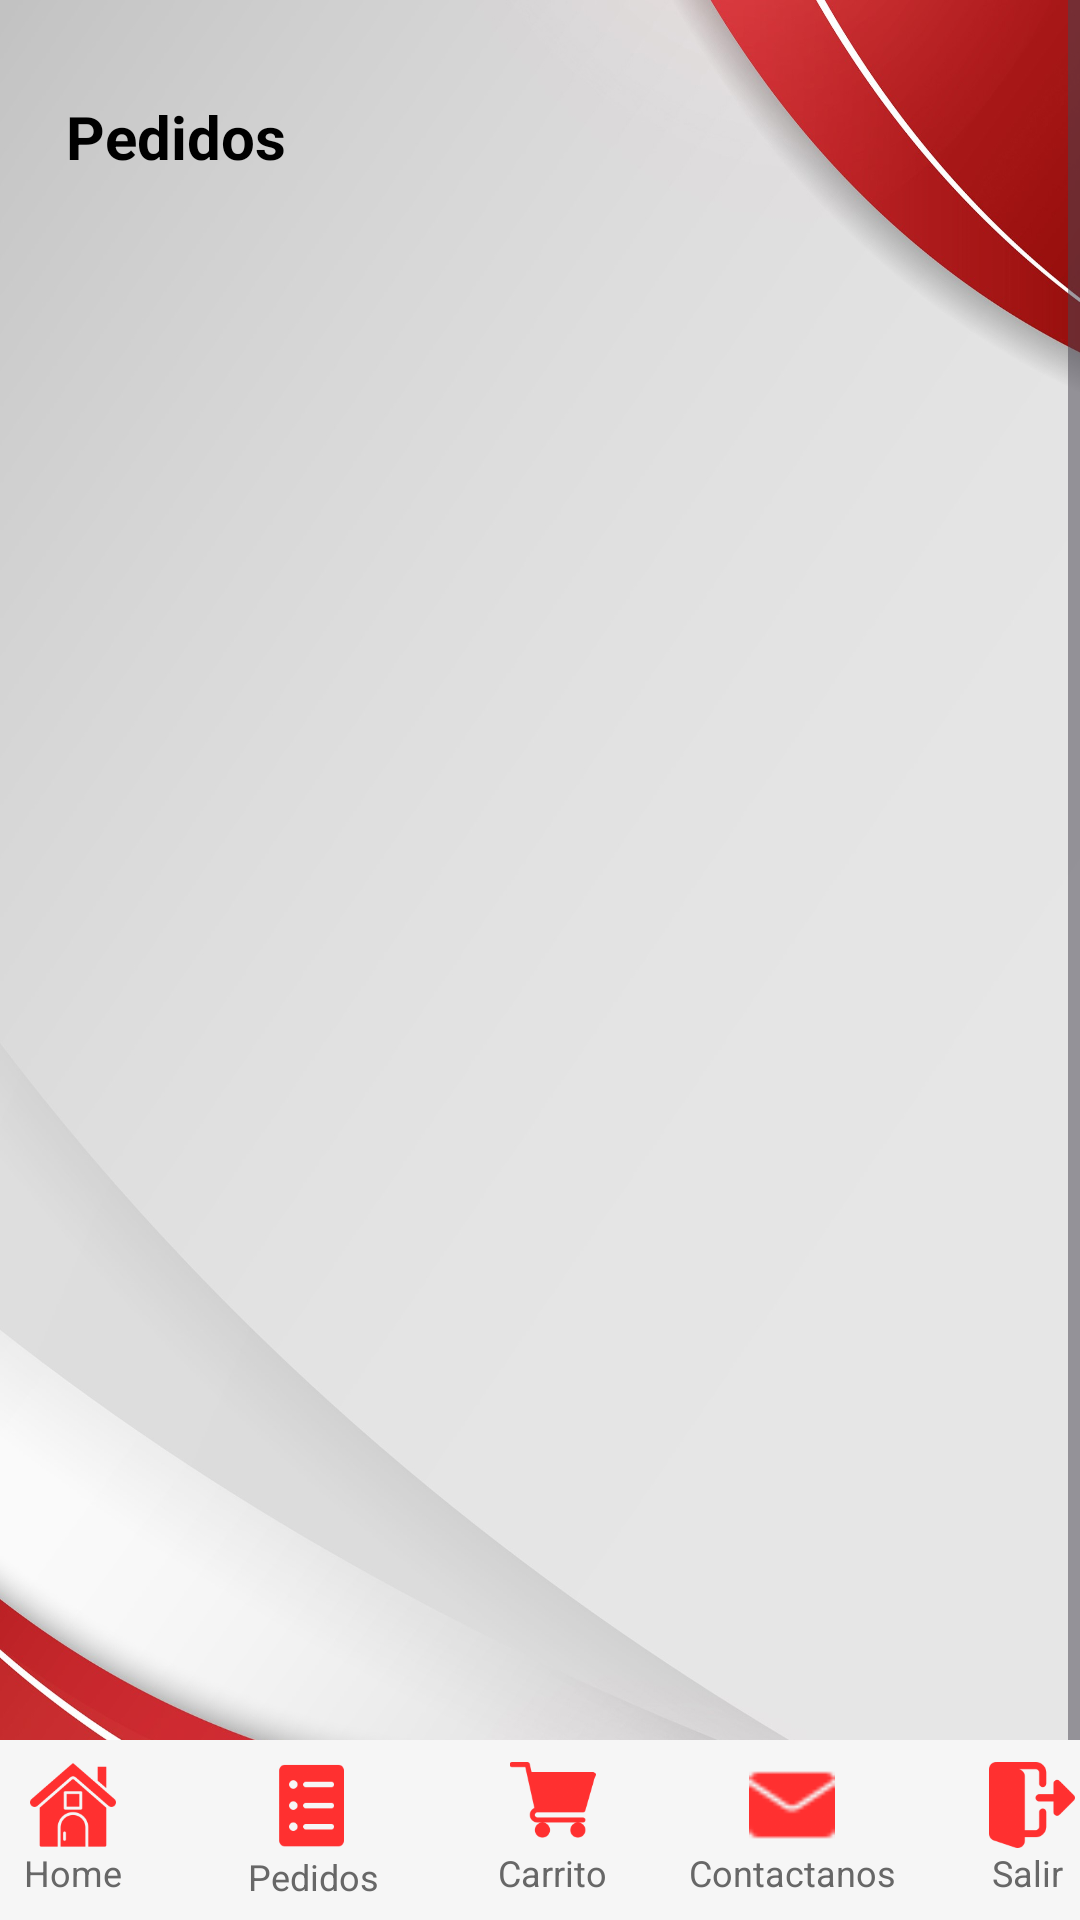

Screen size 1080x1920. Icon name, then its center in pixels as (x=x, y=y):
email: (x=792, y=1805)
